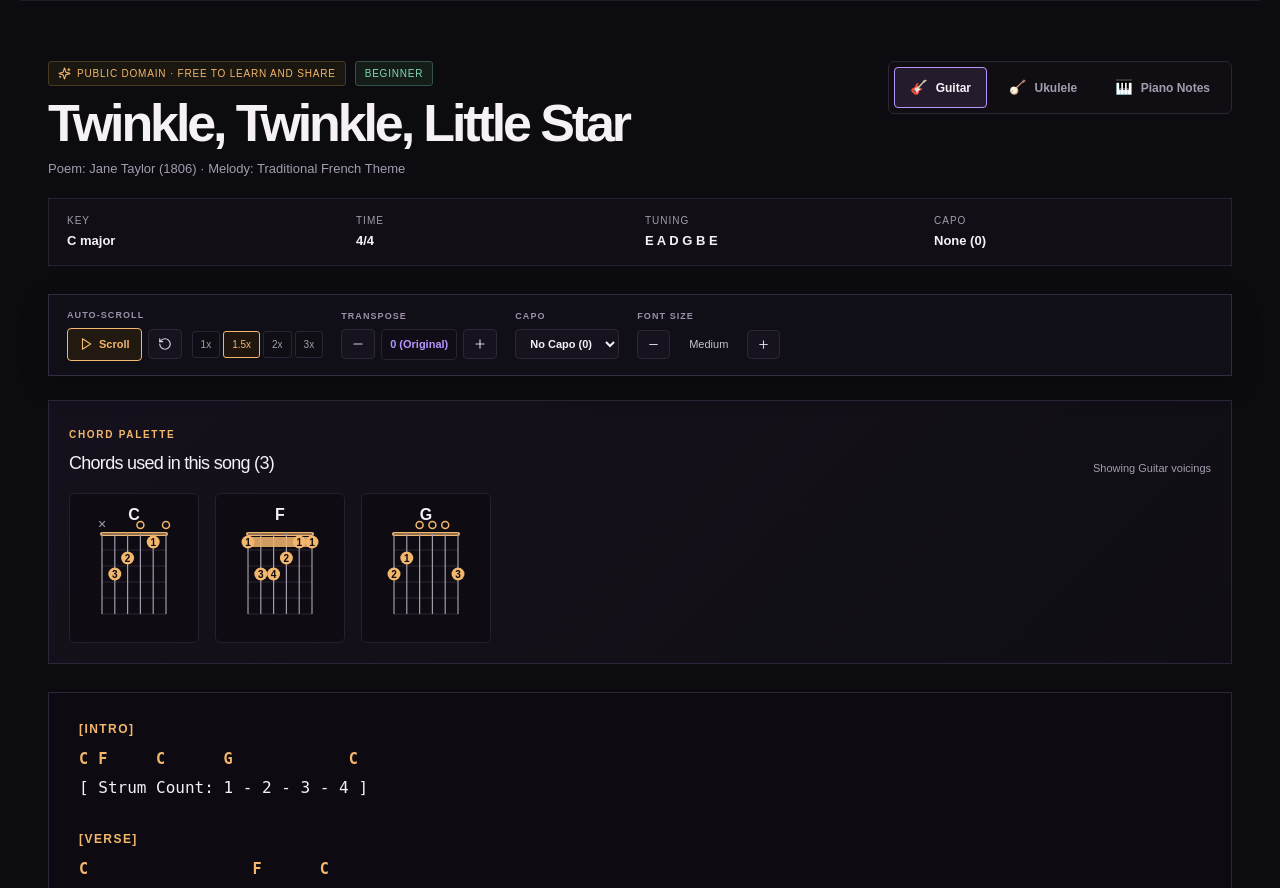
SongSheetReader › transposes chords up and down and updates chord badges and summary
Transpose +2 (from C to D)
Click the button named "Transpose up" at x=480, y=344, box [463,329,497,359]
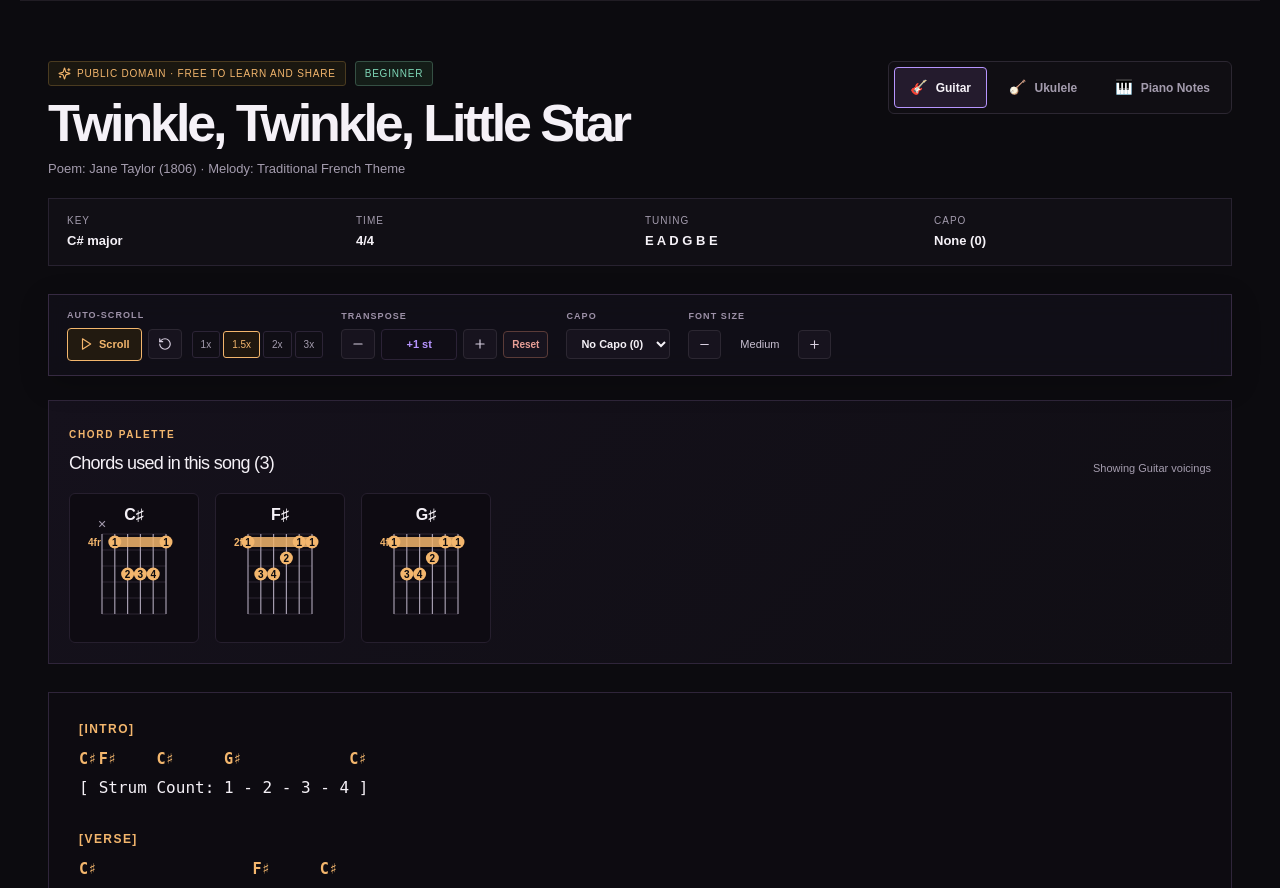
Click the button named "Transpose up" at x=480, y=344, box [463,329,497,359]
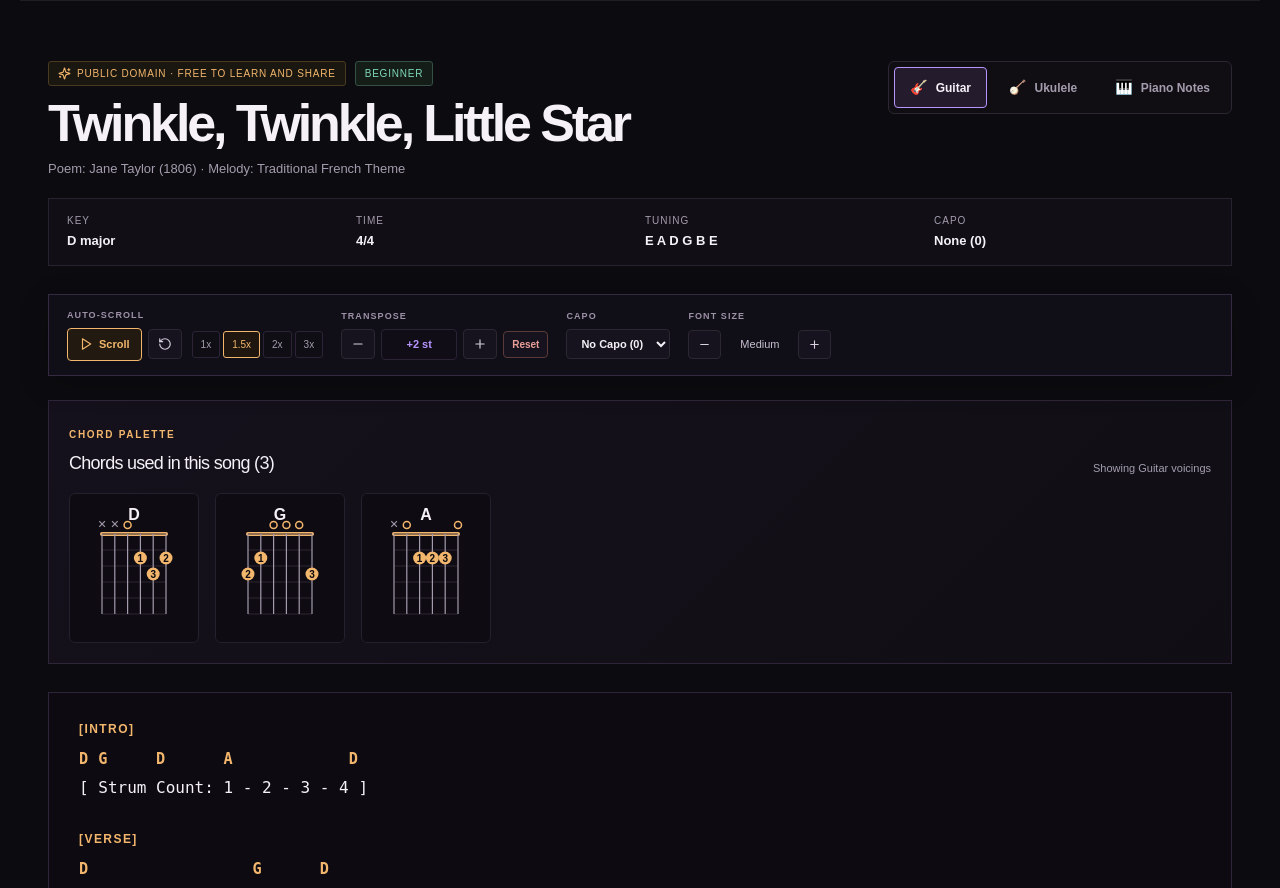
Expected: the text "+2 st" is shown, [381,329,457,360]
Expected: the element with test id "guitar-chord-D" is shown, [69,493,199,643]
Transpose Reset
Click the button with aria-label "Reset transpose" at x=526, y=344, box [503,331,548,358]
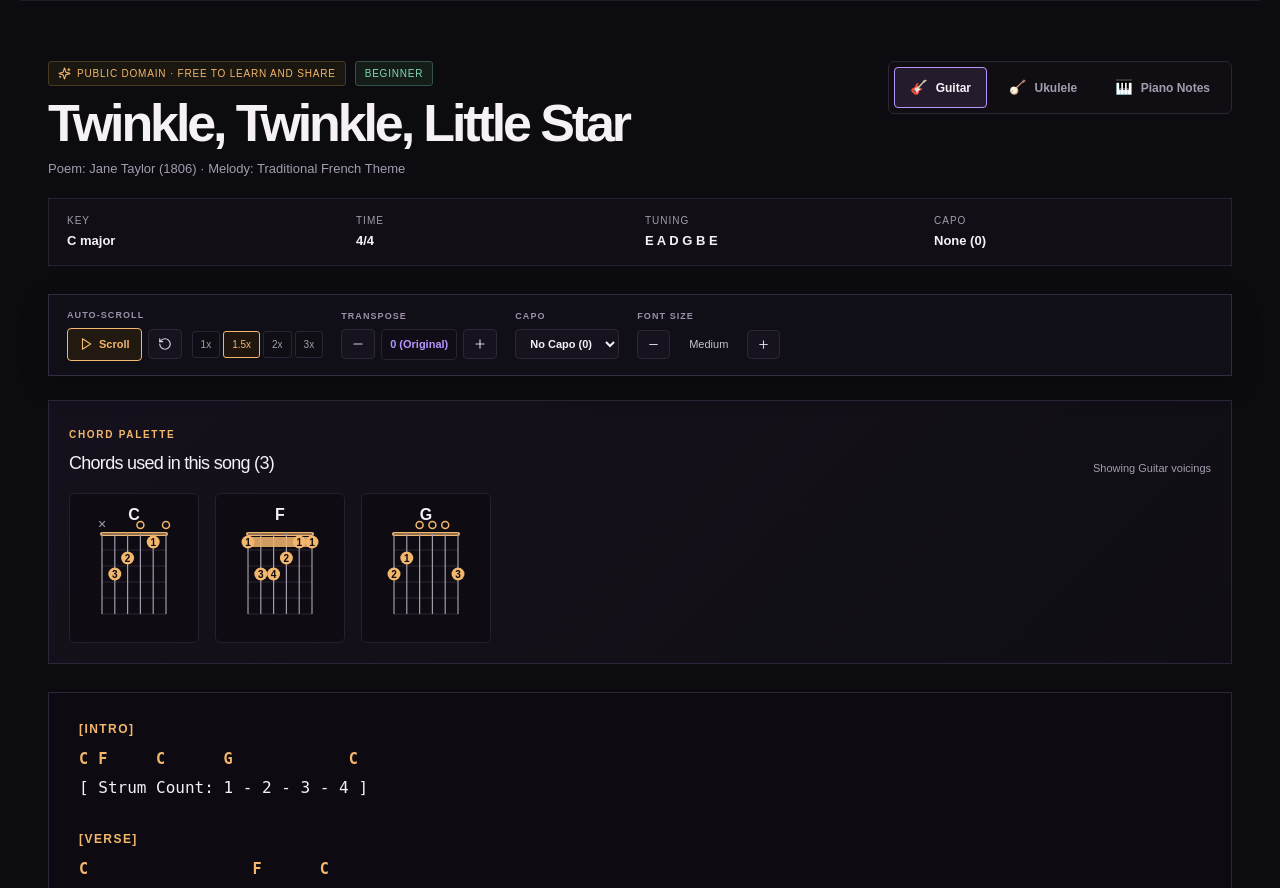
Expected: the text "0 (Original)" is shown, [381,329,457,360]
Expected: the element with test id "guitar-chord-C" is shown, [69,493,199,643]
